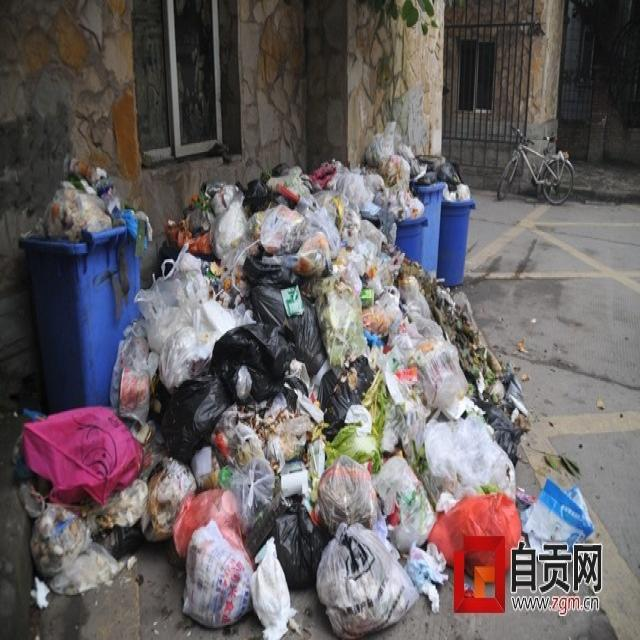garbage: (10, 158, 596, 639)
overflow: (19, 155, 141, 407), (391, 122, 440, 274), (439, 170, 474, 286)
